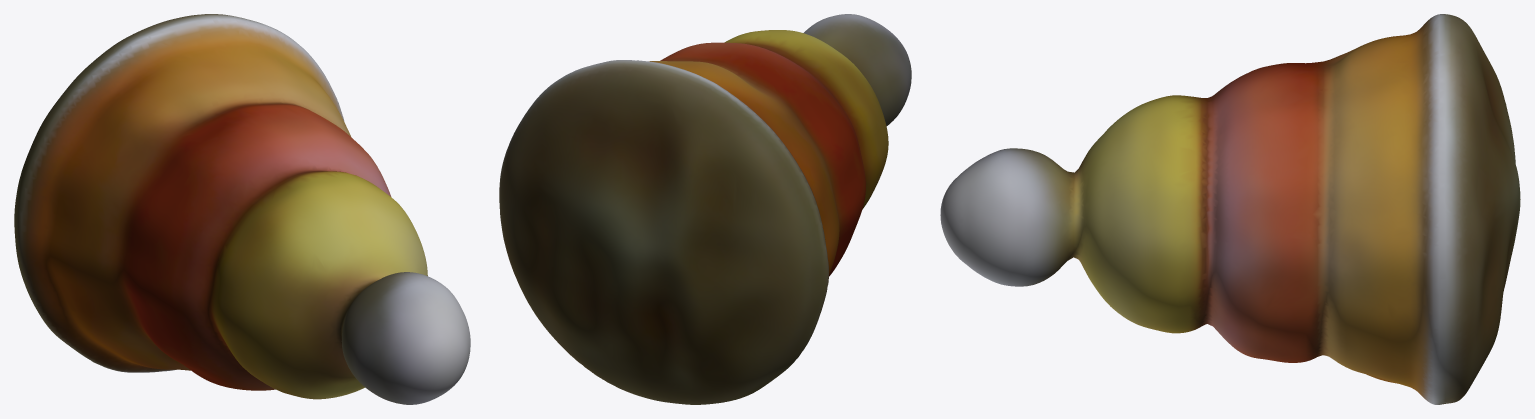
File: chicken.glb
The picture shows the model from 3 angles, left to right: view 1: azimuth 30°, elevation 25°; view 2: azimuth 150°, elevation 25°; view 3: azimuth 270°, elevation 25°; orthographic projection. The views are drawn at different scales.
Size of the model in its own units: 0.6746 by 0.6727 by 0.9997.
